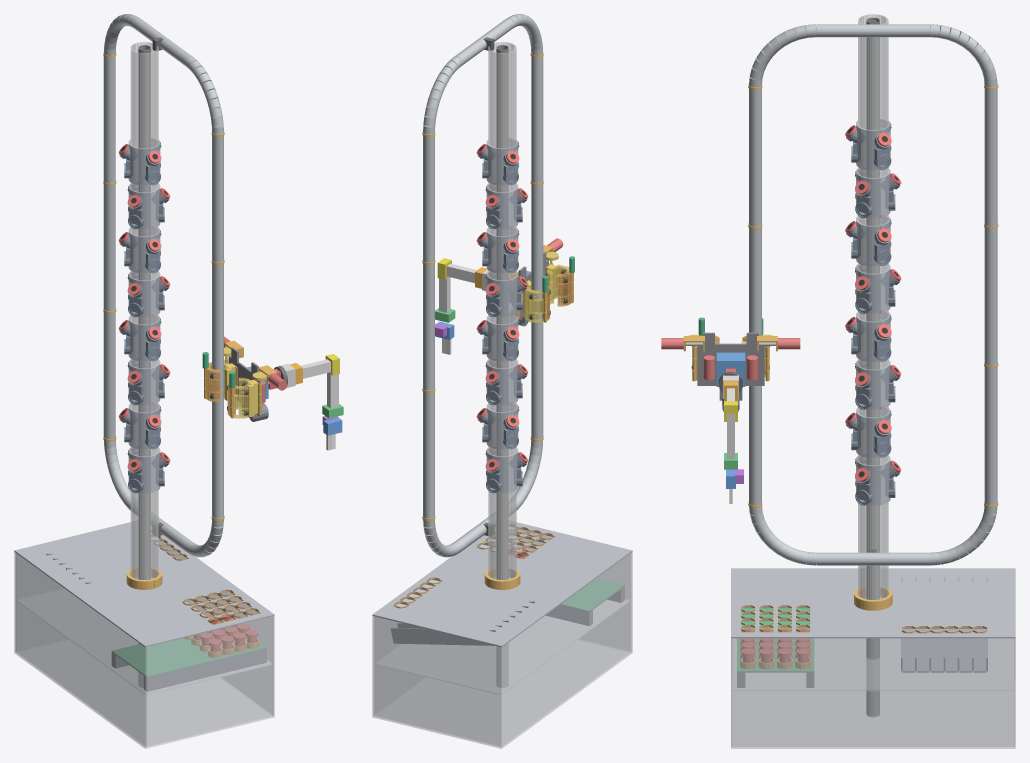
The model's file is reach-test-cart-rolled-v3.glb.
The picture shows the model from 3 angles, left to right: view 1: azimuth 30°, elevation 25°; view 2: azimuth 150°, elevation 25°; view 3: azimuth 270°, elevation 25°; orthographic projection. The views are drawn at different scales.
Bounding box in the file's own units: 0.603 × 1.9 × 0.871.
